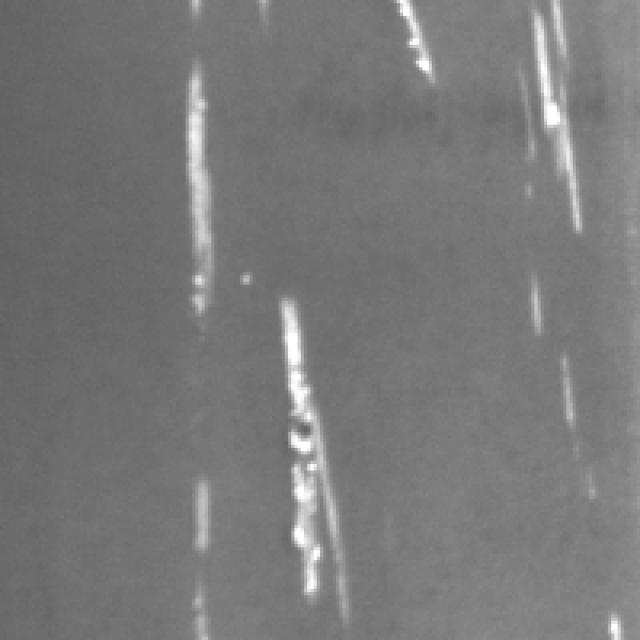scratches: (518, 0, 587, 238), (284, 282, 330, 624), (178, 54, 220, 334), (179, 477, 224, 640), (386, 0, 446, 92), (551, 356, 589, 446), (514, 270, 554, 344), (595, 601, 640, 640)
